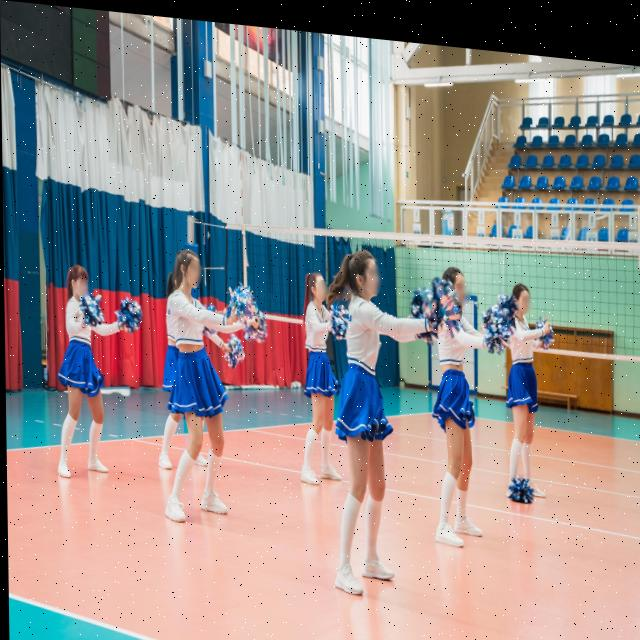Person: (328, 235, 405, 601), (156, 238, 248, 542), (421, 245, 488, 565), (56, 261, 120, 493), (290, 255, 341, 493), (500, 262, 548, 504)
